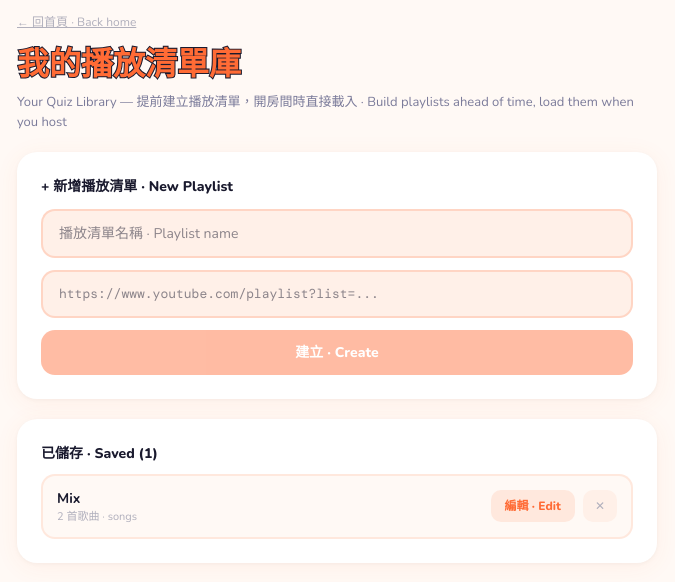
Test: PlaylistsPage: select and delete › DELETEs a playlist and removes it from the list
Expected: the text "Mix" is shown, left=57, top=488, right=80, bottom=508
Click the button "✕" at (600, 506), box left=583, top=490, right=617, bottom=522
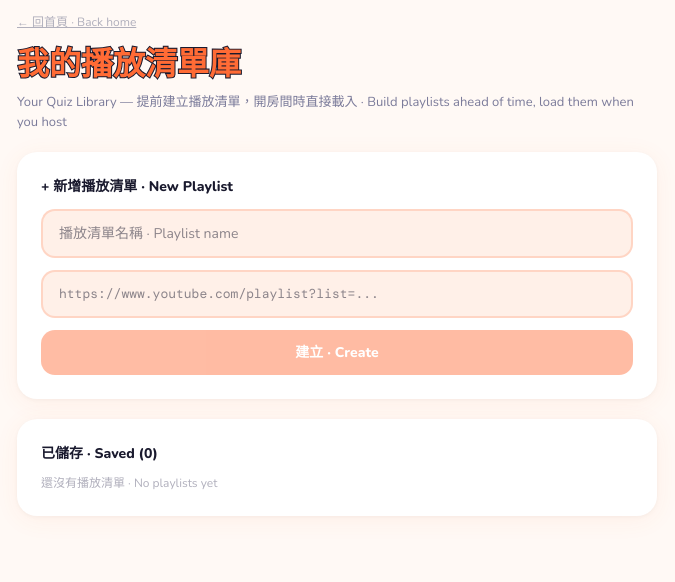
Expected: the text "Mix" is gone
